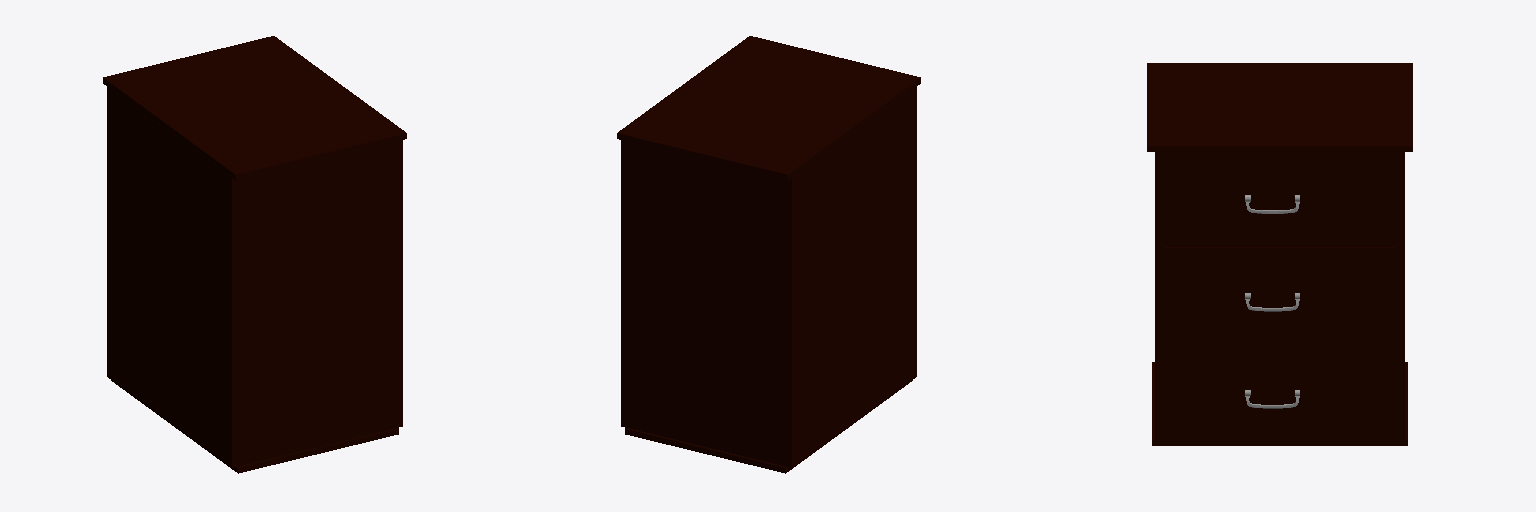
Rendered from hsrcbntccfr.blend.obj.
The picture shows the model from 3 angles: view 1: azimuth 30°, elevation 25°; view 2: azimuth 150°, elevation 25°; view 3: azimuth 270°, elevation 25°; orthographic projection.
Visible parts, largest first — view 1: Cube.025, Cube.017, Cube.024, Cube.026; view 2: Cube.025, Cube.017, Cube.024, Cube.026; view 3: Cube.024, Cube.021, Cube.015_Cube.009, Cube.014_Cube.008, Cube.025, Cube.026.
Part boxes in pixels (x1,y1,x2,y2): Cube.025: (107,85,402,467); Cube.017: (112,89,226,463); Cube.024: (103,36,406,180); Cube.026: (111,380,398,473); Cube.025: (621,85,916,467); Cube.017: (797,89,911,463); Cube.024: (617,36,920,180); Cube.026: (625,380,912,473); Cube.024: (1147,63,1412,151); Cube.021: (1165,247,1394,344); Cube.015_Cube.009: (1165,345,1394,441); Cube.014_Cube.008: (1165,152,1394,246); Cube.025: (1155,151,1404,442); Cube.026: (1152,362,1407,445).
Bounding box in the file's own units: 3.85 × 6.41 × 5.12.